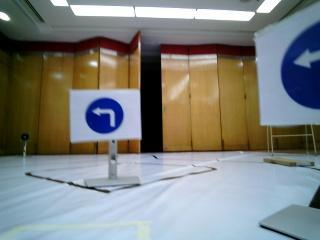left: (73, 94, 140, 136)
